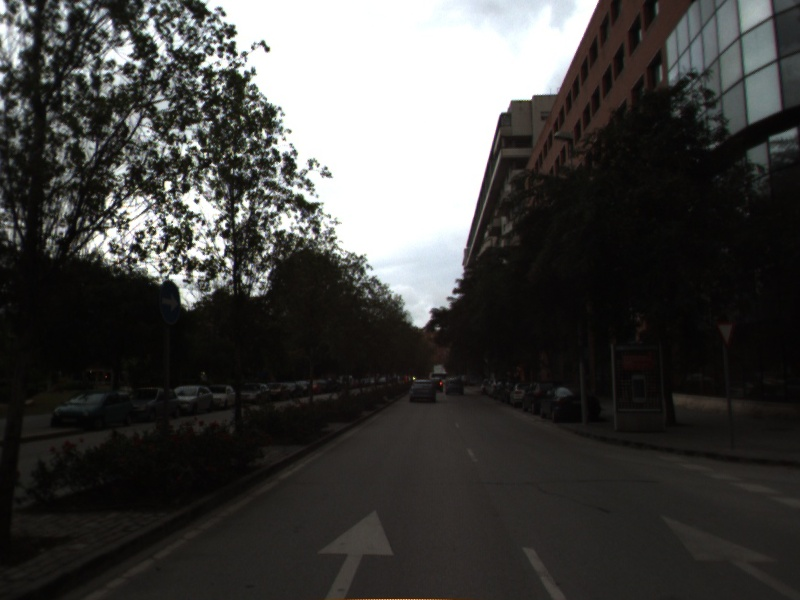STRAIGHT: (658, 511, 800, 599), (314, 505, 396, 600)
